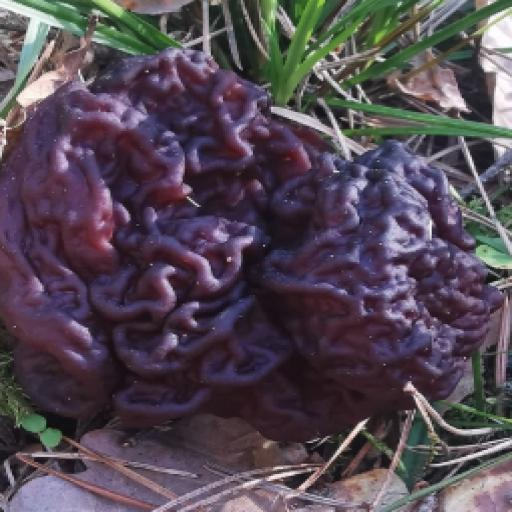mushroom: (0, 47, 505, 464)
